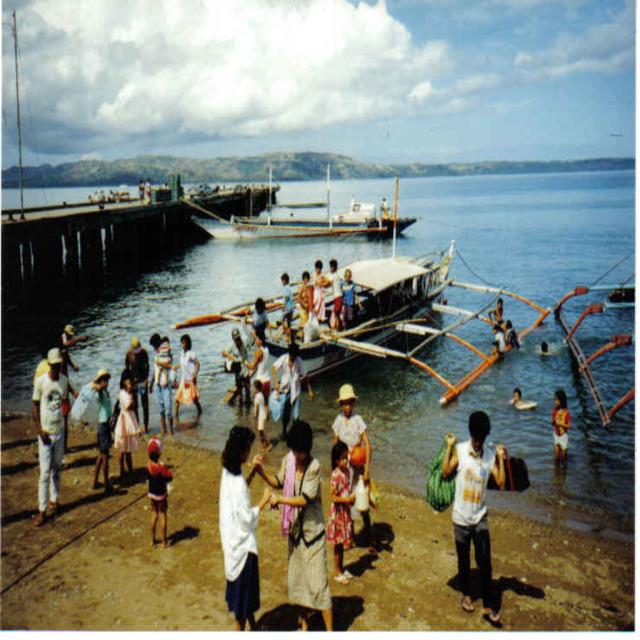Boat: (156, 169, 554, 413), (525, 223, 639, 443), (192, 155, 424, 242)
